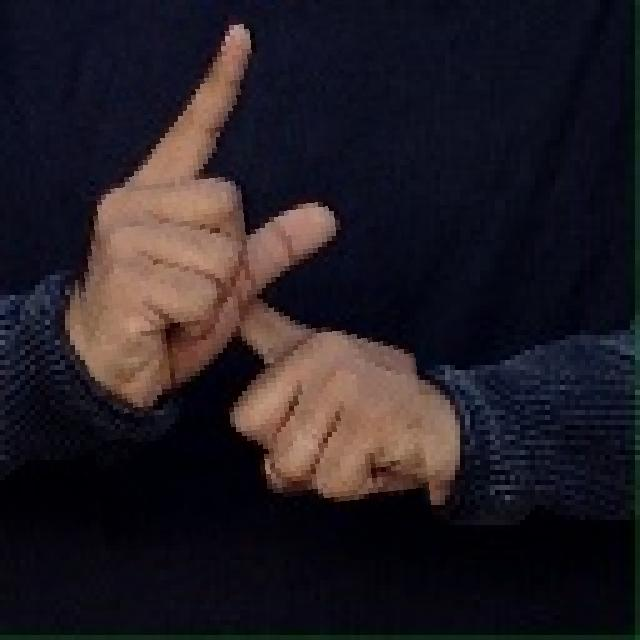Y: (65, 4, 419, 544)
